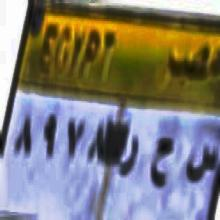7: (62, 118, 86, 159)
7aa: (149, 132, 178, 192)
8: (14, 112, 36, 165), (87, 119, 106, 171)
9: (42, 109, 60, 165)
raa: (120, 131, 144, 180)
seen: (184, 136, 218, 190)
